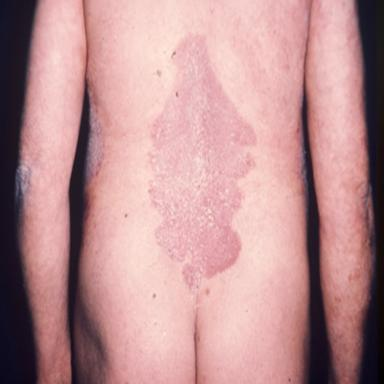Psoriasis: (149, 36, 255, 290), (85, 93, 104, 183), (17, 164, 31, 199)
